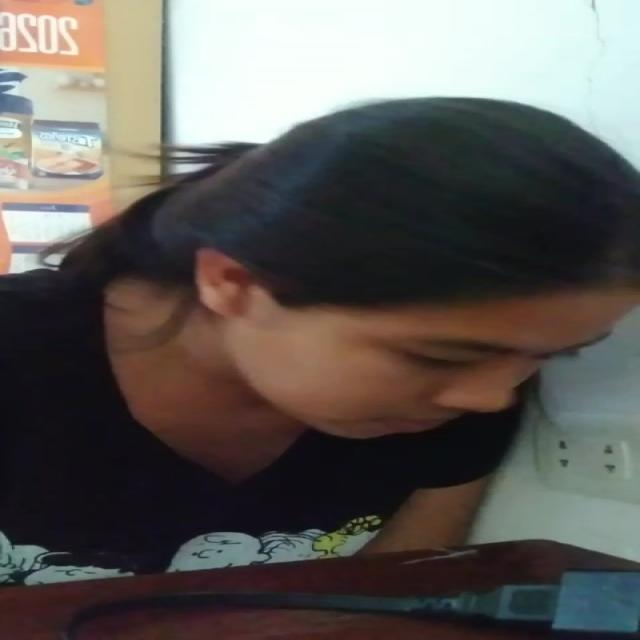9_cabeza_baja: (157, 94, 640, 438)
